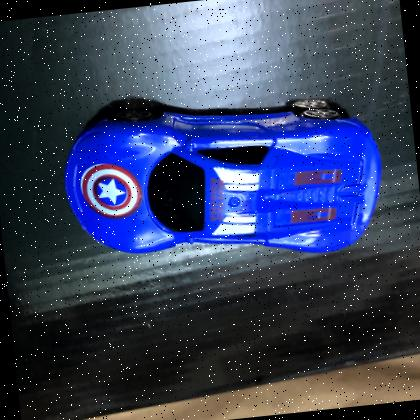Car: (63, 96, 382, 253)
